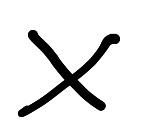mult: (22, 28, 120, 118)
